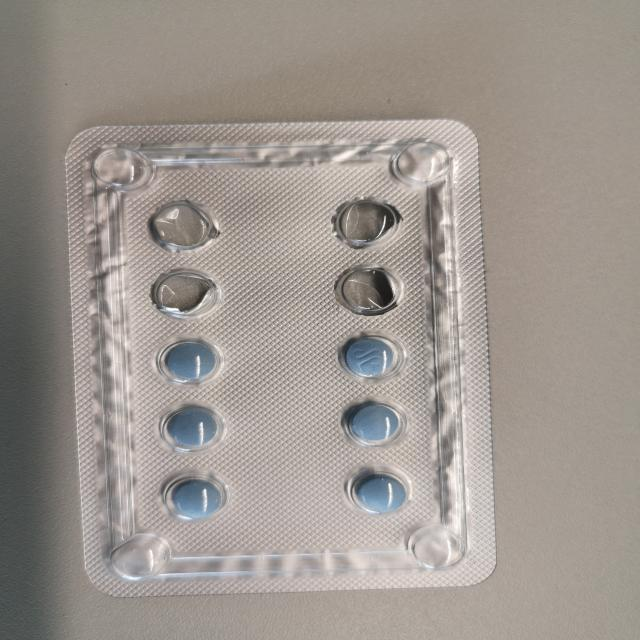Empty: (129, 193, 242, 258), (313, 192, 410, 255), (142, 264, 225, 326)
Pill: (324, 257, 414, 324), (151, 464, 242, 529), (324, 328, 416, 392), (150, 330, 233, 396), (150, 398, 234, 462), (331, 395, 414, 459), (339, 462, 416, 524)
